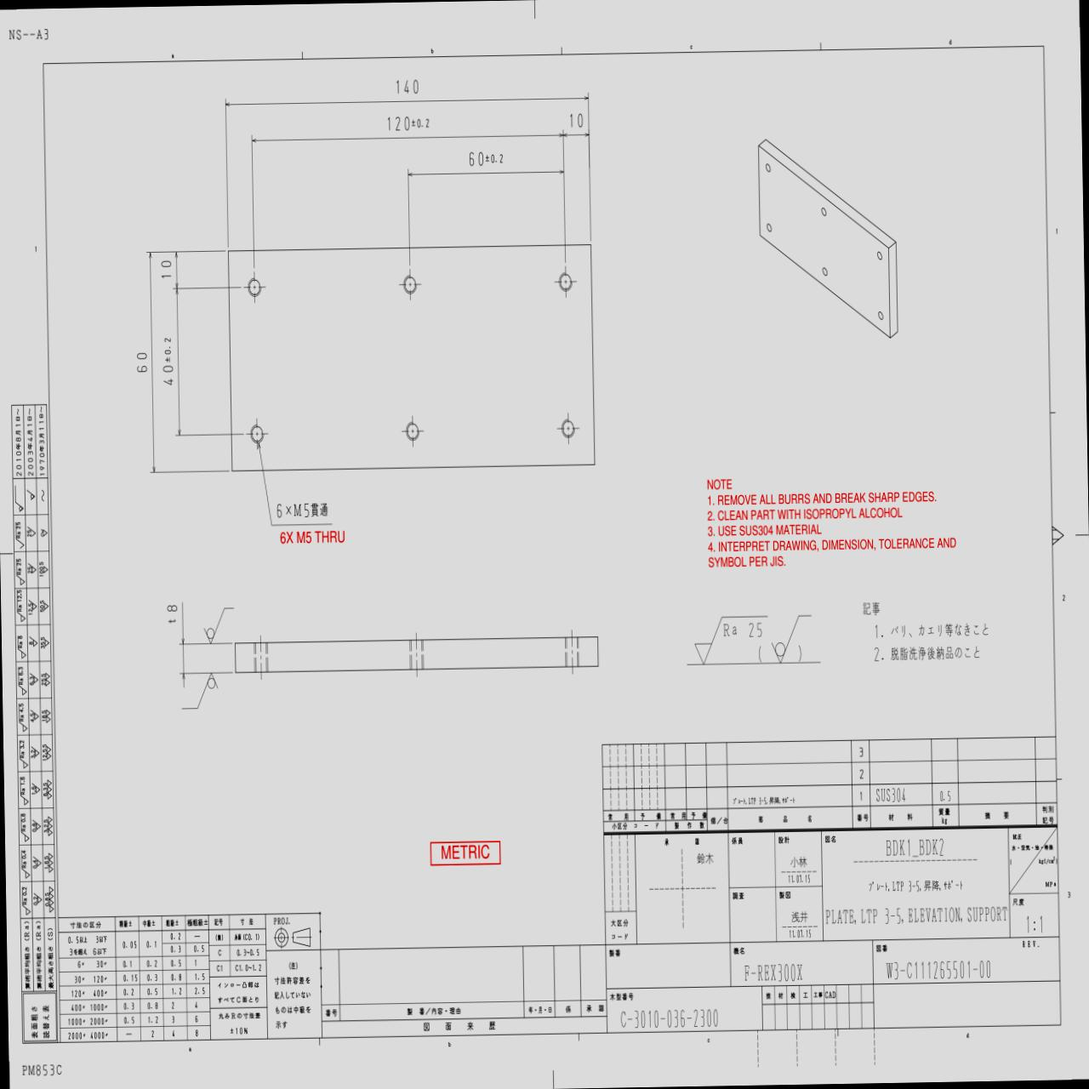basic_dimension: (396, 79, 418, 94), (136, 353, 147, 372), (570, 113, 583, 129), (161, 261, 171, 279)
dimension_metric_symbol: (294, 503, 310, 518)
dimension_metric_text: (305, 502, 310, 519)
dimension_radius_text: (749, 622, 762, 637)
dimension_thickness_symbol: (167, 603, 178, 624)
dimension_thickness_text: (166, 603, 178, 614)
explicit_tolerance_text: (388, 116, 432, 132), (162, 337, 173, 385), (470, 151, 503, 167)
surface_finish_symbol: (694, 616, 768, 666), (771, 614, 812, 664), (182, 673, 218, 709), (204, 607, 234, 644)
